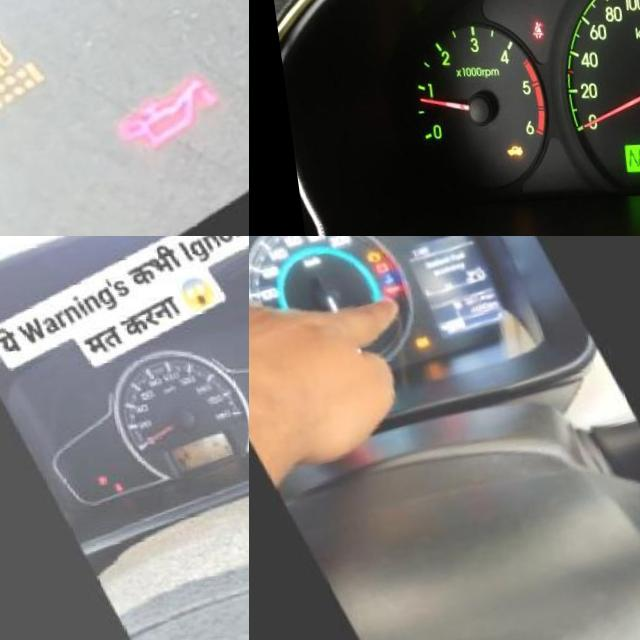Engine cooling system: (371, 277, 386, 292)
